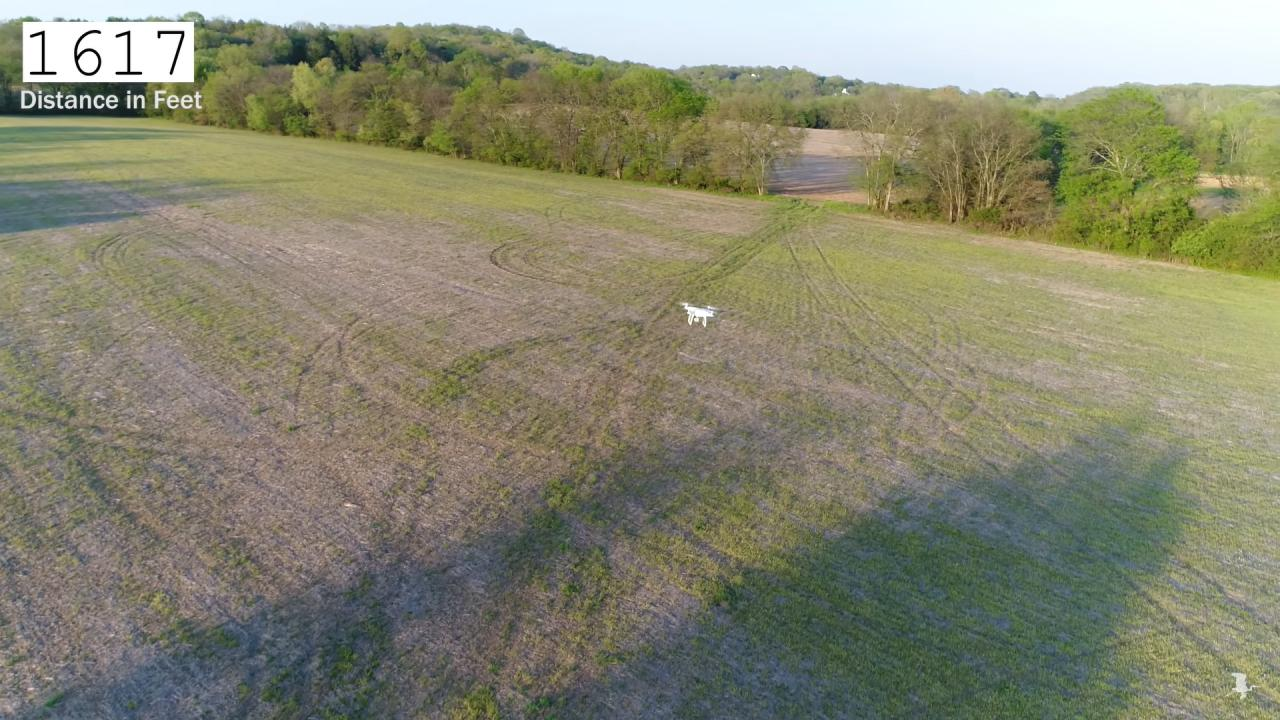Drone: (670, 292, 730, 338)
